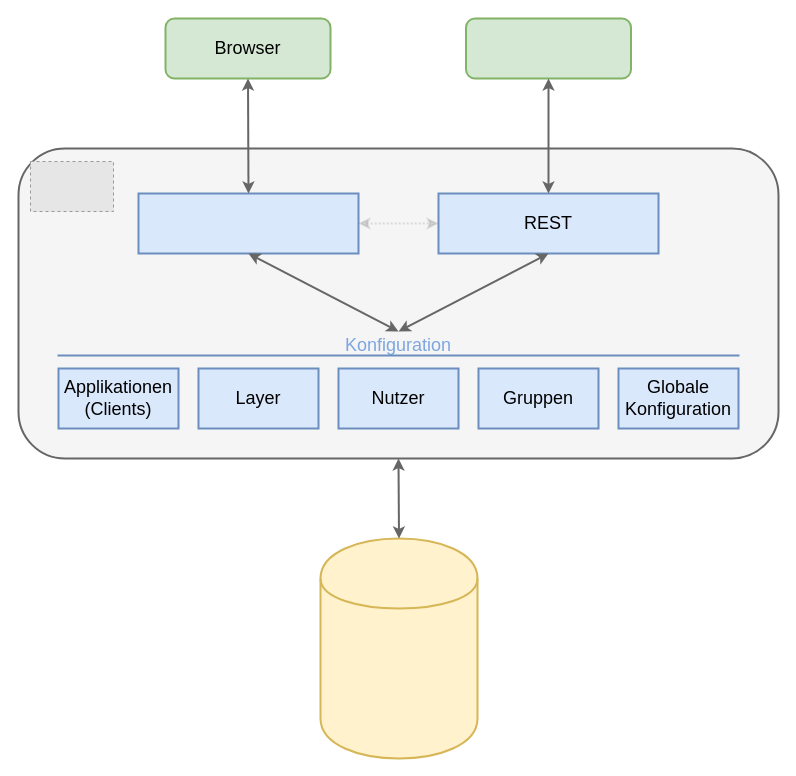
The diagram is 796 pixels wide and 776 high, and some of its shapes have lost their labels. Grey dashed boxes stand in for pictures. Here are the shapes that lost their labels. From the top down, the centre of each, then its label:
point (548, 48): QGIS Plugin
point (248, 223): Weboberfläche
point (398, 648): Datenbank
